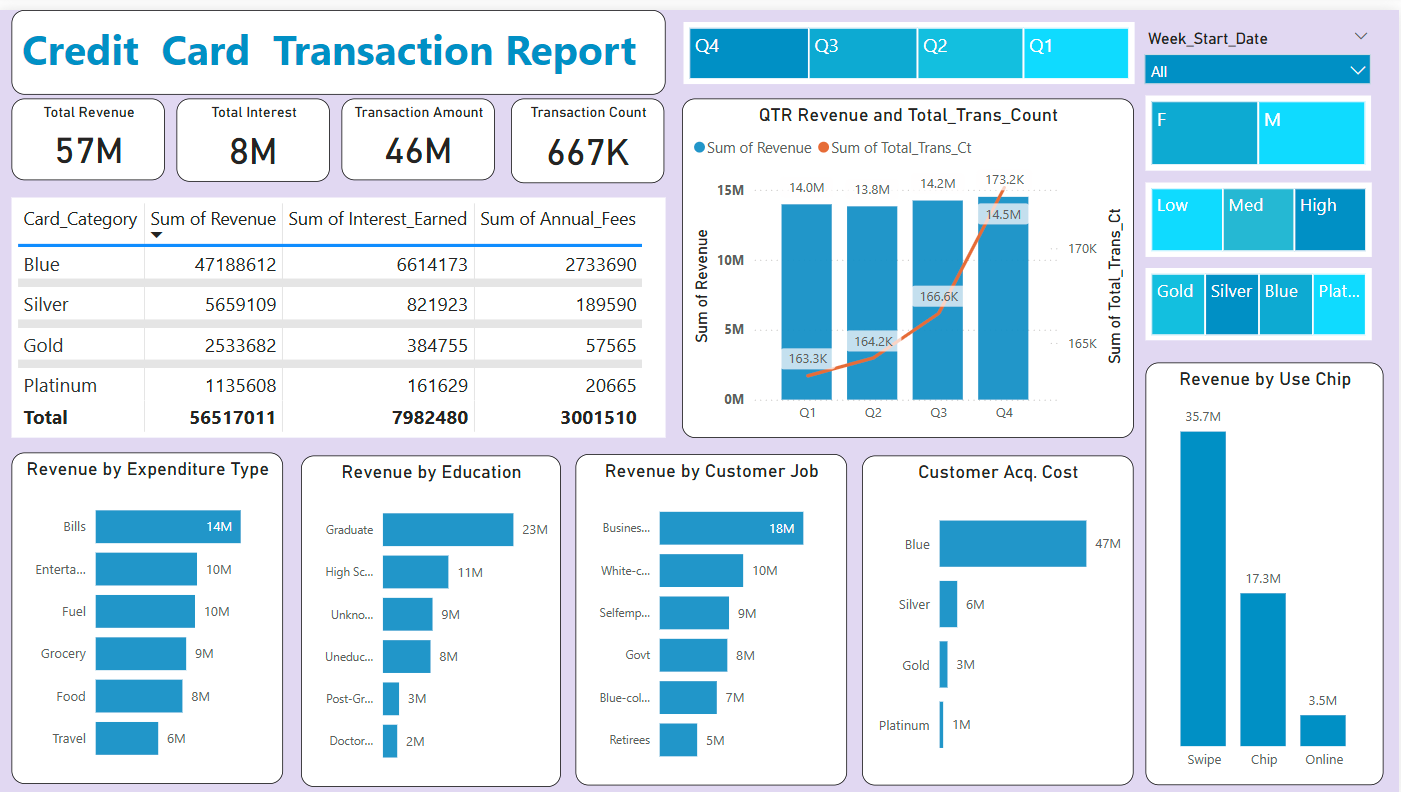

This screenshot's page, from the dashboard's own definition file:
{"tool":"powerbi","page":{"name":"CC Transaction","canvas":[1280,720],"ordinal":0},"visuals":[{"type":"textbox","box":[11.9,0,597,77.6],"z":0},{"type":"lineStackedColumnComboChart","title":"QTR Revenue and Total_Trans_Count","fields":{"Category":["public cc_detail.Qtr"],"Y":["Sum(public cc_detail.Revenue)"],"Y2":["Sum(public cc_detail.Total_Trans_Vol)"]},"box":[625.3,80.3,412.7,310.3],"z":1000},{"type":"barChart","title":"Revenue by Expenditure Type","fields":{"Y":["Sum(public cc_detail.Revenue)"],"Category":["public cc_detail.Exp Type"]},"box":[11.9,404.5,247.8,303],"z":2000},{"type":"barChart","title":"Revenue by Education","fields":{"Y":["Sum(public cc_detail.Revenue)"],"Category":["public cust_detail.Education_Level"]},"box":[276.1,407.5,237.3,303],"z":3000},{"type":"barChart","title":"Revenue by Customer Job","fields":{"Y":["Sum(public cc_detail.Revenue)"],"Category":["public cust_detail.Customer_Job"]},"box":[526.9,406,247.8,303],"z":4000},{"type":"barChart","title":"Customer Acq. Cost","fields":{"Y":["Sum(public cc_detail.Revenue)"],"Category":["public cc_detail.Card_Category"]},"box":[789.6,407.5,247.8,301.5],"z":5000},{"type":"clusteredColumnChart","title":"Revenue by Use Chip","fields":{"Category":["public cc_detail.Use Chip"],"Y":["Sum(public cc_detail.Revenue)"]},"box":[1047.4,321.3,217.4,385.9],"z":6000},{"type":"tableEx","fields":{"Values":["public cc_detail.Card_Category","Sum(public cc_detail.Revenue)","Sum(public cc_detail.Interest_Earned)","Sum(public cc_detail.Annual_Fees)"]},"box":[12,171,597,219.4],"z":7000},{"type":"card","title":"Total Revenue","fields":{"Values":["Sum(public cc_detail.Revenue)"]},"box":[11.9,80.6,140.3,74.6],"z":8000},{"type":"card","title":"Transaction Amount","fields":{"Values":["Sum(public cc_detail.Total_Trans_Amt)"]},"box":[313.4,80.6,140.3,74.6],"z":9000},{"type":"card","title":"Total Interest","fields":{"Values":["Sum(public cc_detail.Interest_Earned)"]},"box":[162.7,80.6,140.3,76.1],"z":10000},{"type":"card","title":"Transaction Count","fields":{"Values":["Sum(public cc_detail.Total_Trans_Ct)"]},"box":[468.7,80.6,140.3,77.6],"z":11000},{"type":"slicer","fields":{"Values":["public cc_detail.Week_Start_Date"]},"box":[1037.3,11.9,226.9,65.7],"z":12000},{"type":"treemap","fields":{"Group":["public cc_detail.Qtr"],"Values":["Avg(public cc_detail.Client_Num)"]},"box":[625.4,10.4,411.9,56.7],"z":13000},{"type":"treemap","fields":{"Values":["Avg(public cc_detail.Client_Num)"],"Group":["public cust_detail.Gender"]},"box":[1047.8,77.6,206,68.7],"z":14000},{"type":"treemap","fields":{"Values":["Avg(public cc_detail.Client_Num)"],"Group":["public cc_detail.Card_Category"]},"box":[1047.4,236.3,206.3,66.2],"z":15000},{"type":"treemap","fields":{"Values":["Avg(public cc_detail.Client_Num)"],"Group":["public cust_detail.IncomeGroup"]},"box":[1047.4,157.5,206.3,67.7],"z":16000}]}

Visuals, with their boxes in screenshot pixels (x1, y1, x2, y2), scaled from the page's 1280x720 canvas onto the 1401x792 screenshot:
textbox: box(13, 0, 666, 85)
"QTR Revenue and Total_Trans_Count" lineStackedColumnComboChart: box(684, 88, 1136, 430)
"Revenue by Expenditure Type" barChart: box(13, 445, 284, 778)
"Revenue by Education" barChart: box(302, 448, 562, 782)
"Revenue by Customer Job" barChart: box(577, 447, 848, 780)
"Customer Acq. Cost" barChart: box(864, 448, 1135, 780)
"Revenue by Use Chip" clusteredColumnChart: box(1146, 353, 1384, 778)
tableEx - public cc_detail.Card_Category x Sum(public cc_detail.Revenue): box(13, 188, 667, 429)
"Total Revenue" card: box(13, 89, 167, 171)
"Transaction Amount" card: box(343, 89, 497, 171)
"Total Interest" card: box(178, 89, 332, 172)
"Transaction Count" card: box(513, 89, 667, 174)
slicer - public cc_detail.Week_Start_Date: box(1135, 13, 1384, 85)
treemap - public cc_detail.Qtr x Avg(public cc_detail.Client_Num): box(685, 11, 1135, 74)
treemap - Avg(public cc_detail.Client_Num) x public cust_detail.Gender: box(1147, 85, 1372, 161)
treemap - Avg(public cc_detail.Client_Num) x public cc_detail.Card_Category: box(1146, 260, 1372, 333)
treemap - Avg(public cc_detail.Client_Num) x public cust_detail.IncomeGroup: box(1146, 173, 1372, 248)
